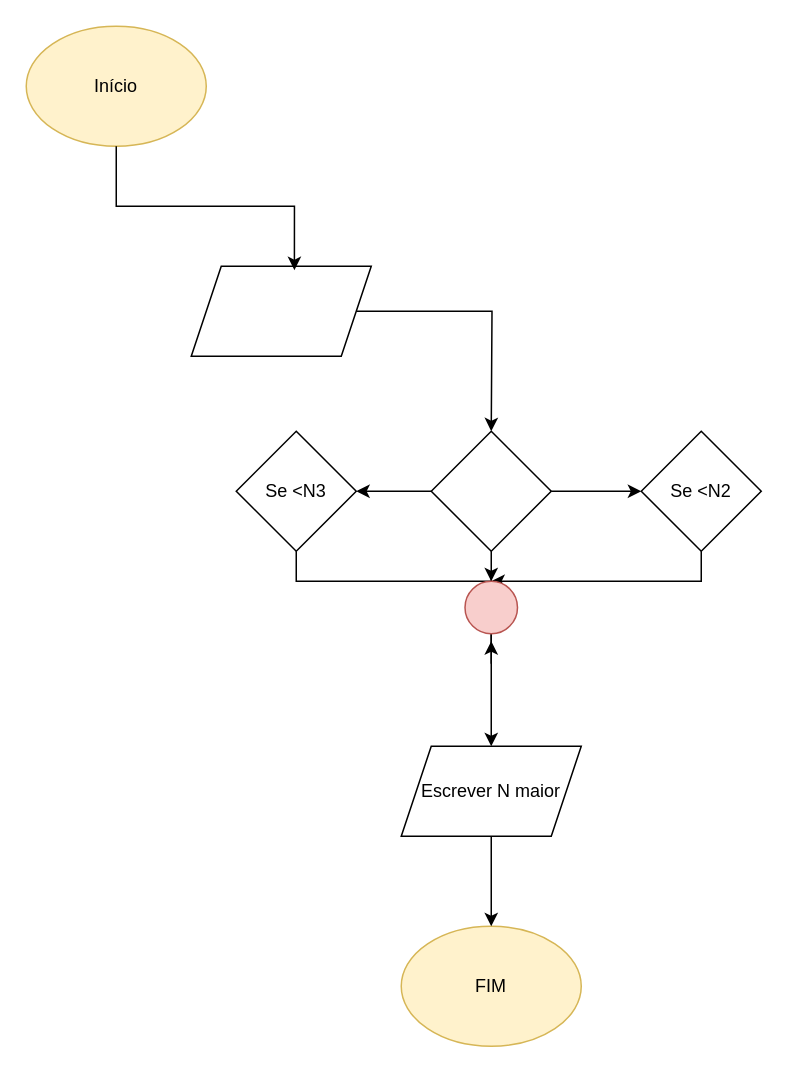
This 788x1073 diagram has some shape labels left out. Here are the shapes that lost their labels. From the top down, the box of each, then its label:
(190, 265, 371, 356): Ler N1,N2,N3
(430, 430, 551, 551): Se <N1
